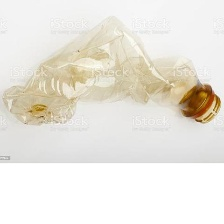bottle: (0, 12, 221, 129)
